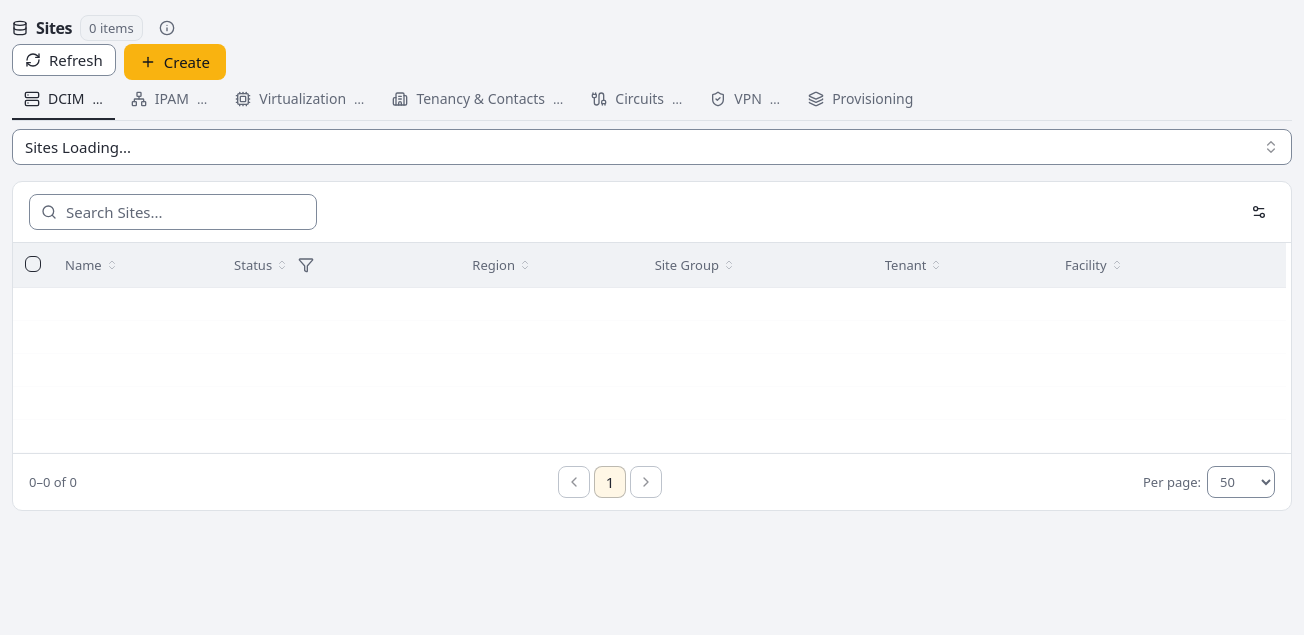
Test case: InventoryResources list › finds entities by typing in the single category picker and selects them by keyboard
The width and height of the screenshot is (1304, 635).
Click the dropdown named "DCIM" at (78, 147), box [12, 129, 1292, 165]
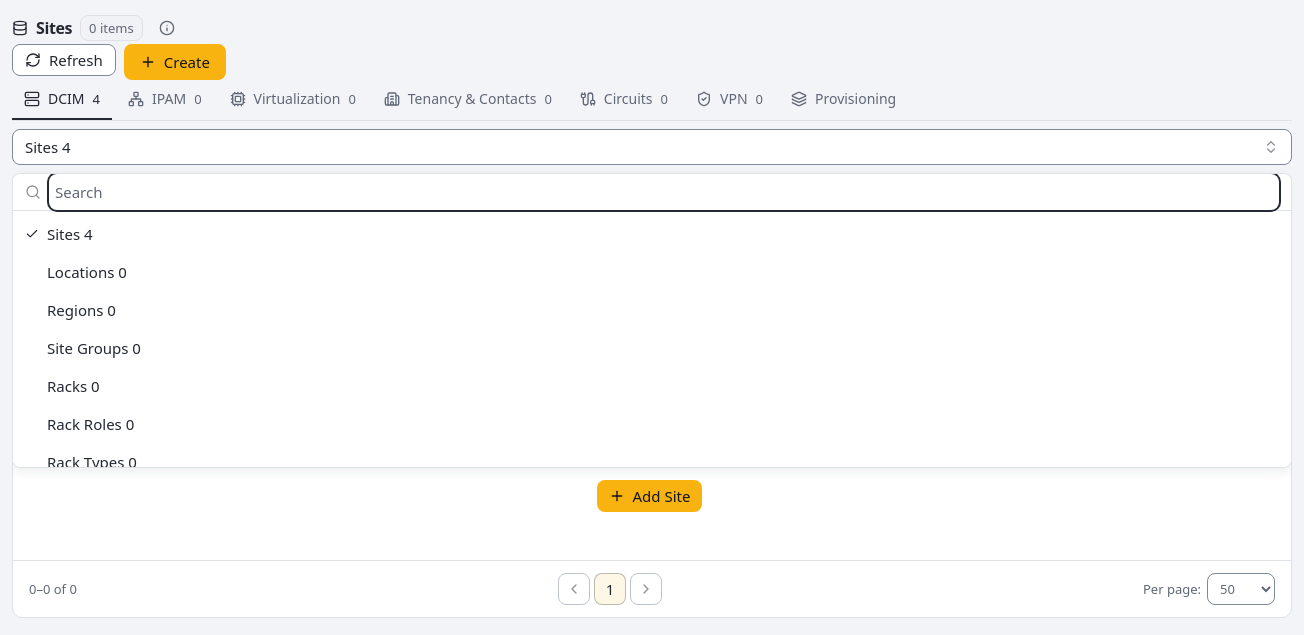
Expected: the option "Sites 4" is shown, [25, 224, 93, 244]
Type "Locations" into the dropdown with placeholder "Search" at (664, 192), box [49, 174, 1279, 210]
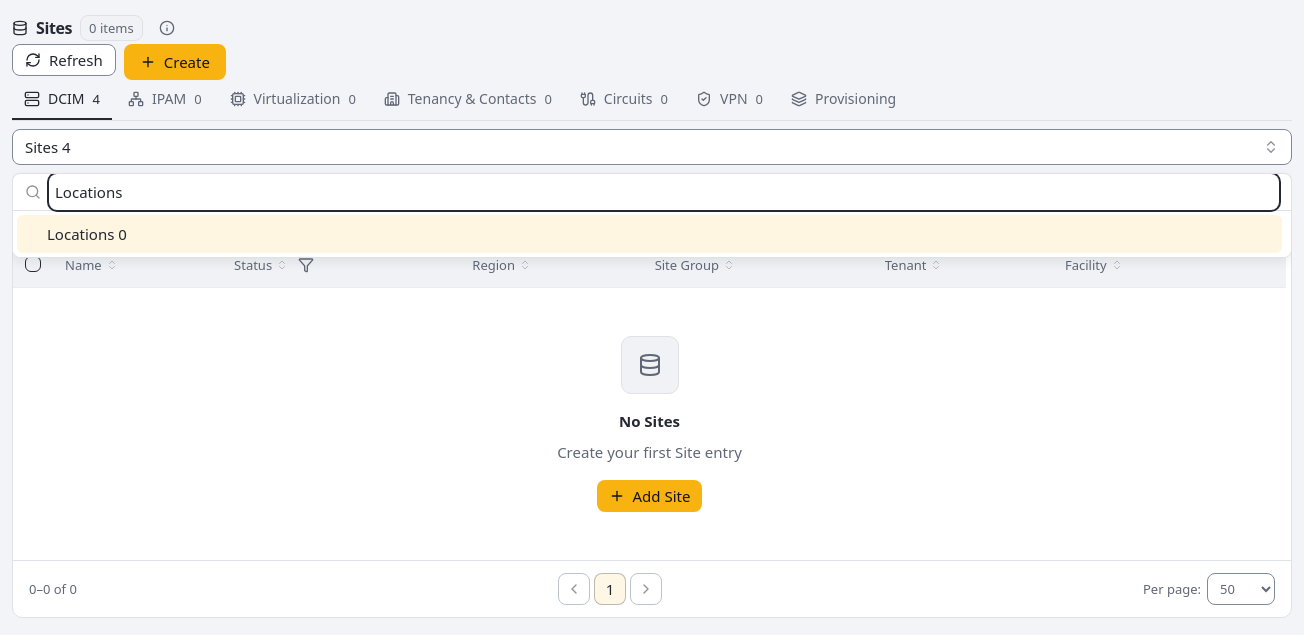
Expected: the option "Locations 0" is selected, [17, 215, 1282, 253]
Press Enter in the dropdown with placeholder "Search", box [49, 174, 1279, 210]
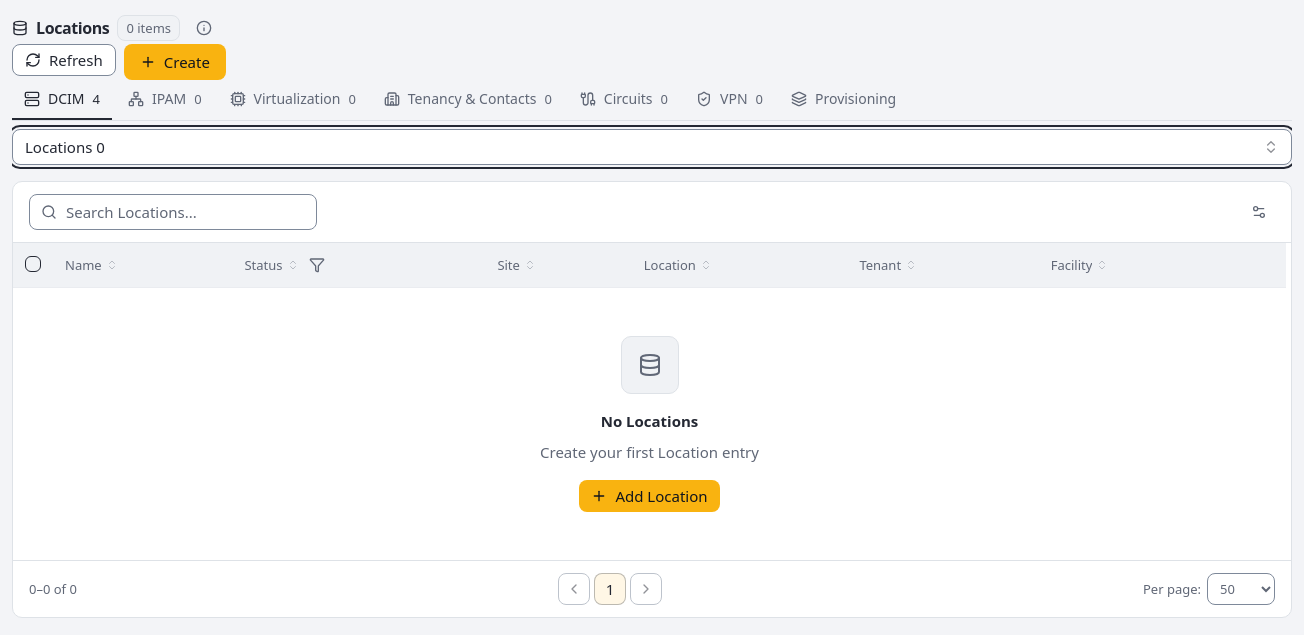
Expected: the heading "Locations" is shown, [36, 16, 109, 40]
Expected: the dropdown named "DCIM" reads "Locations 0", [12, 129, 1292, 165]
Expected: the dropdown named "DCIM" is collapsed, [12, 129, 1292, 165]
